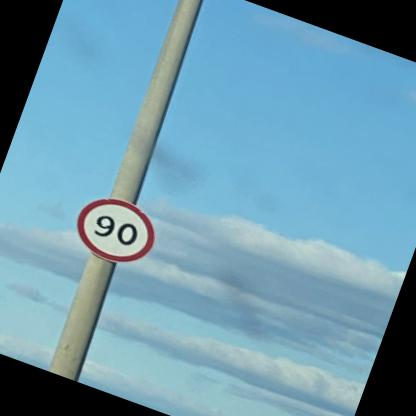speedlimit: (66, 186, 164, 272)
